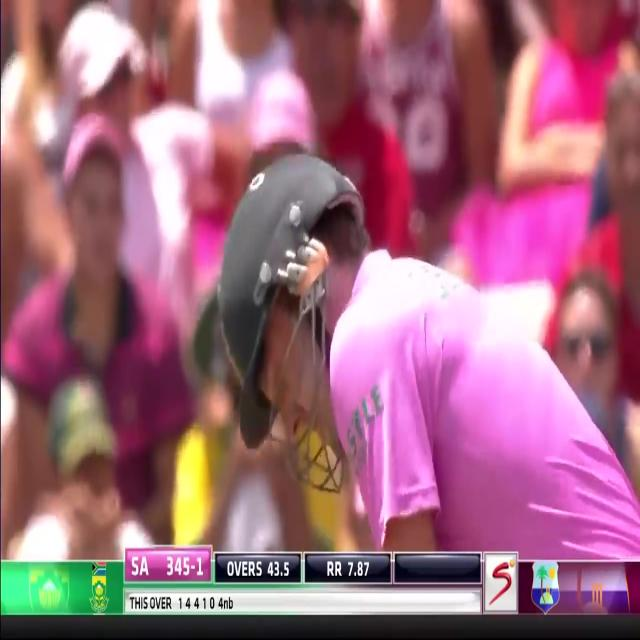Ball: (215, 3, 638, 557)
